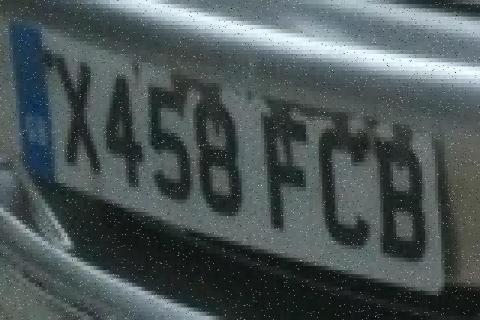LicensePlate: (6, 8, 457, 312)
